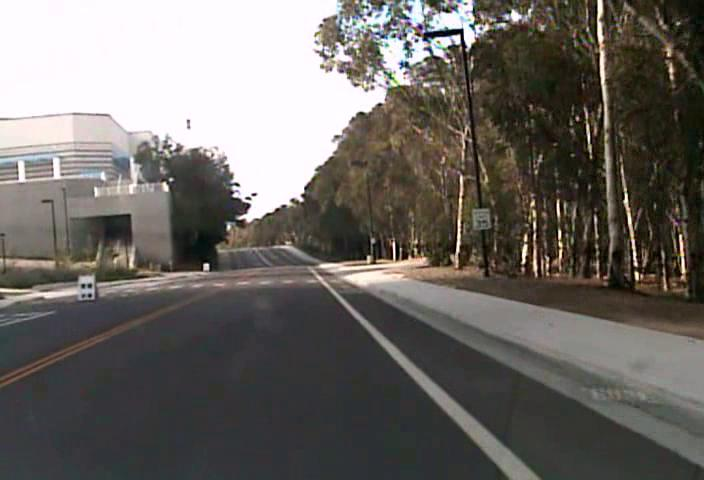speedLimit35: (470, 207, 492, 231)
